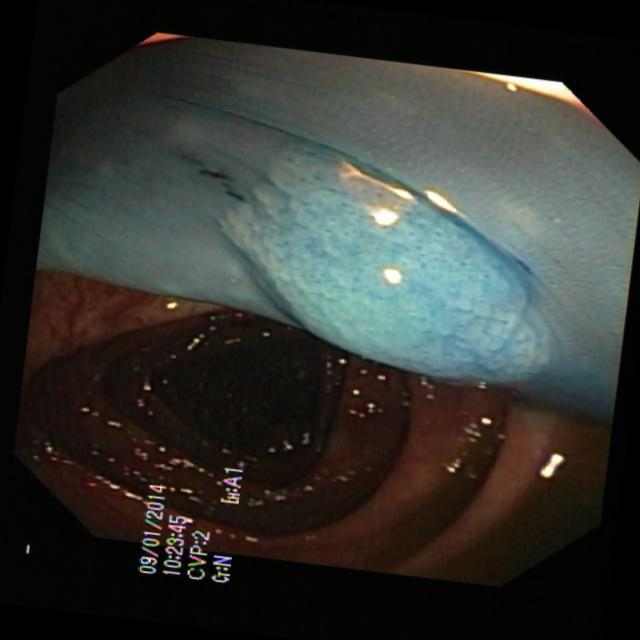dyed-lifted-polyps: (233, 123, 558, 388)
